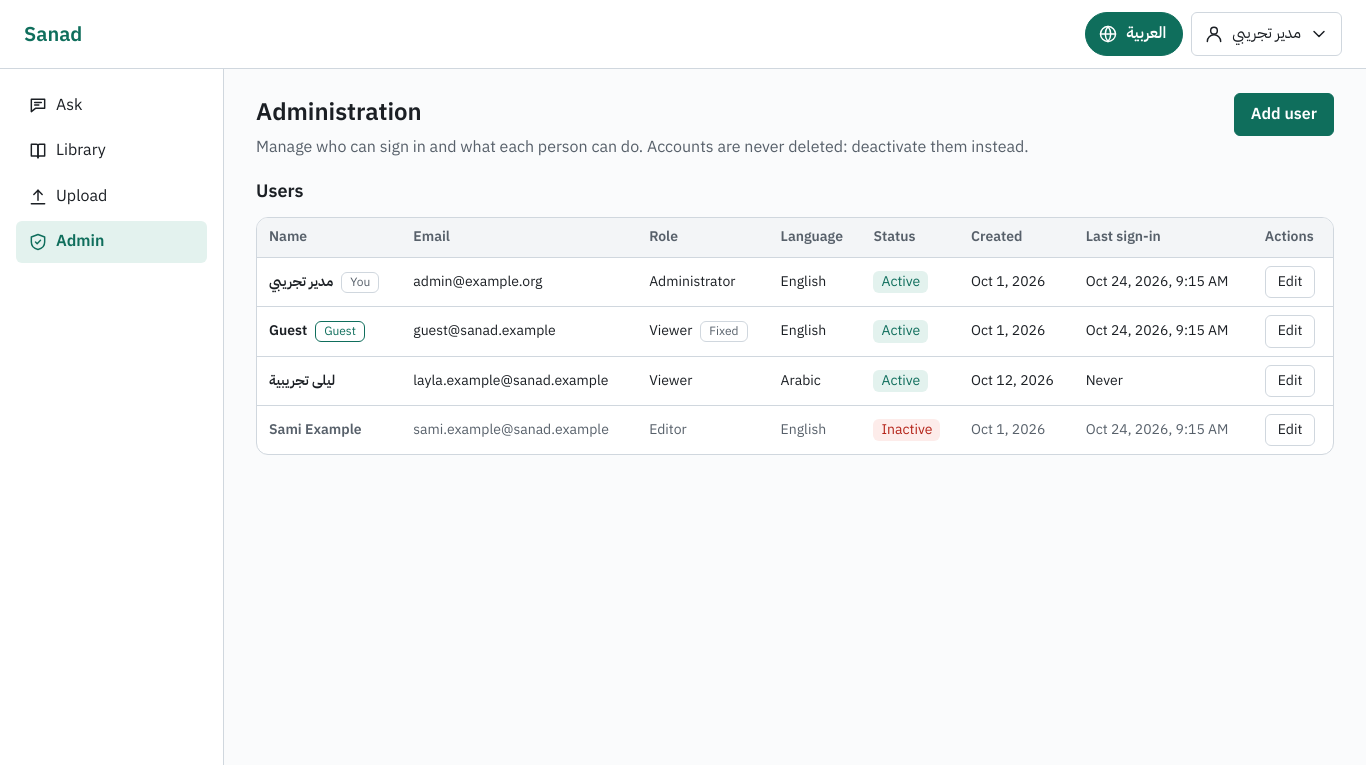
Test: create user › a duplicate email shows the translated error and keeps what was typed
Expected: the table named "Users" is shown, [257, 218, 1333, 454]
Step 1. Click the button "Add user" → x=1284, y=114, box [1234, 93, 1334, 136]
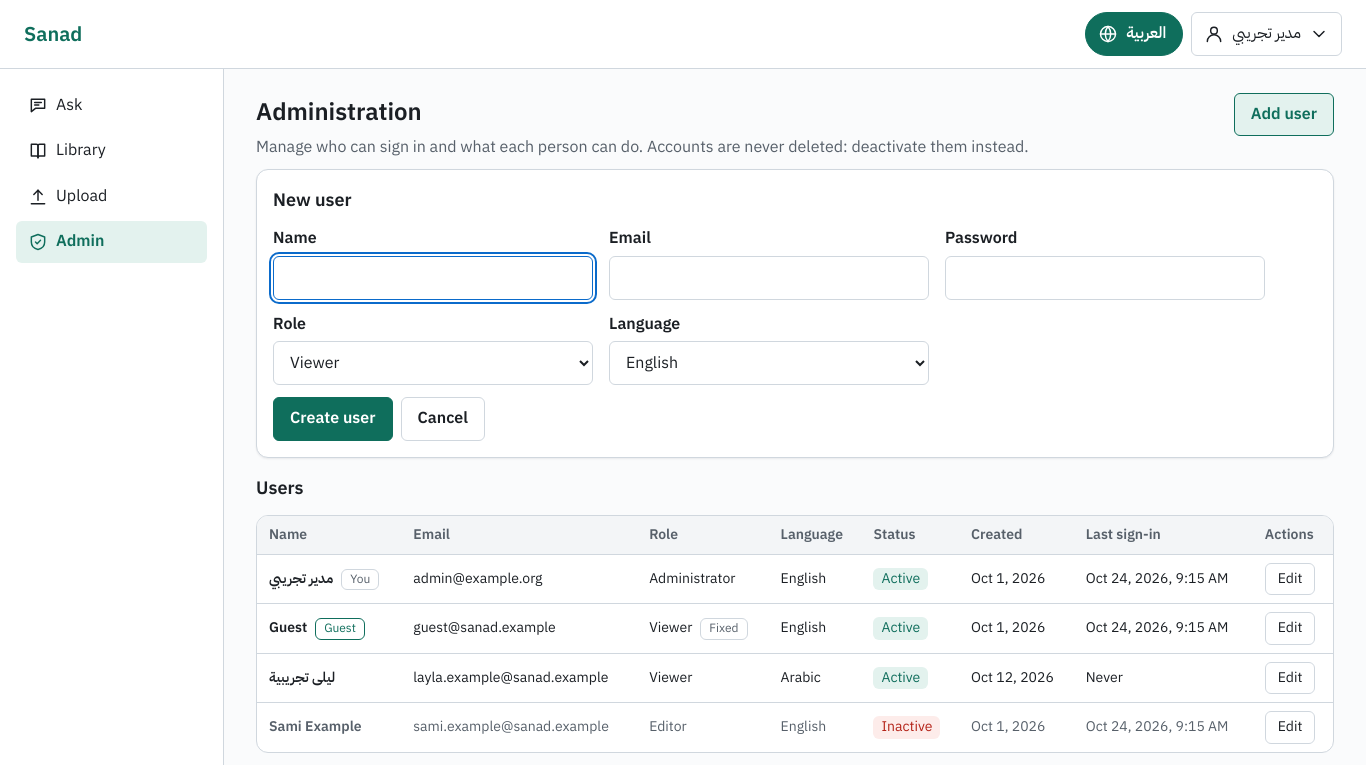
Step 2. Type "Hala Example" into the field labelled "Name" → x=433, y=278, box [273, 256, 593, 300]
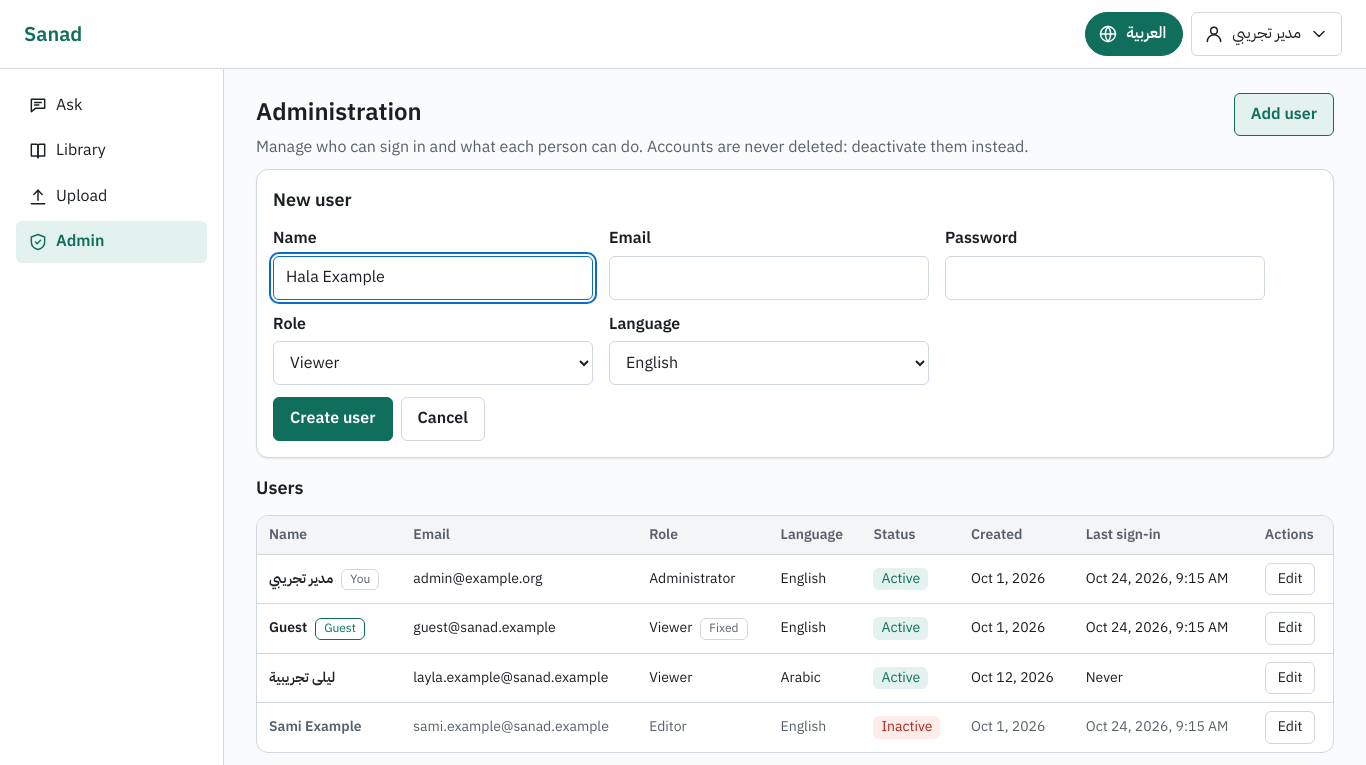
Step 3. Type "layla.example@sanad.example" into the field labelled "Email" → x=769, y=278, box [609, 256, 929, 300]
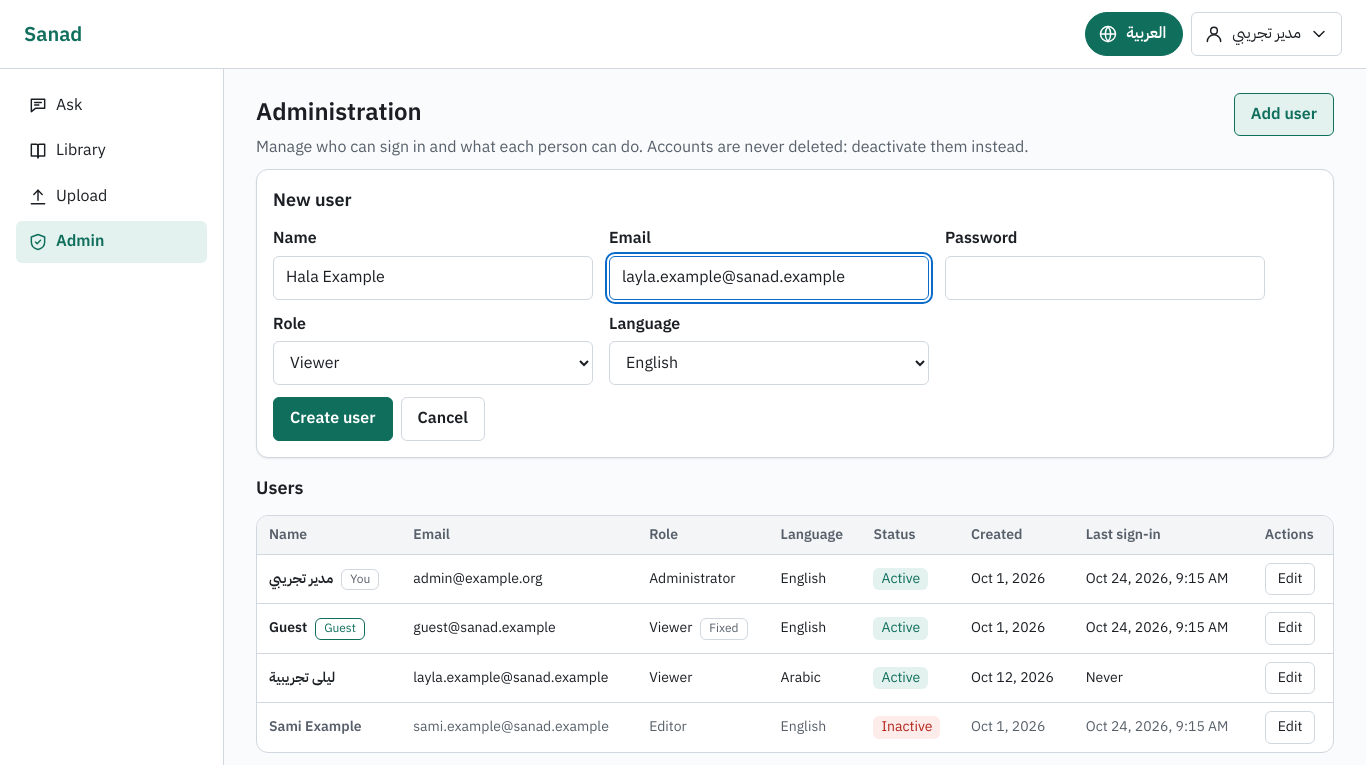
Step 4. Type "correct-horse-battery" into the password field labelled "Password" → x=1105, y=278, box [945, 256, 1265, 300]
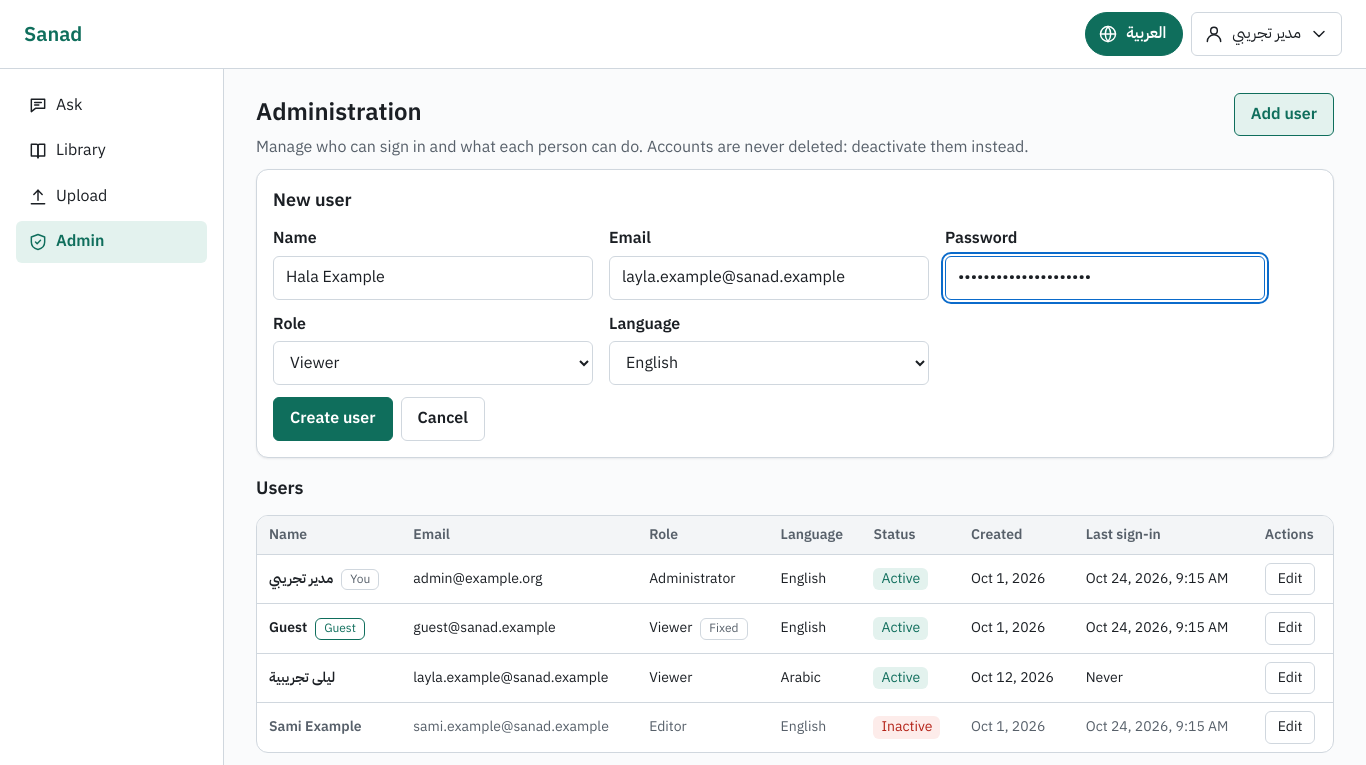
Step 5. Click the button "Create user" → x=333, y=419, box [273, 397, 392, 441]
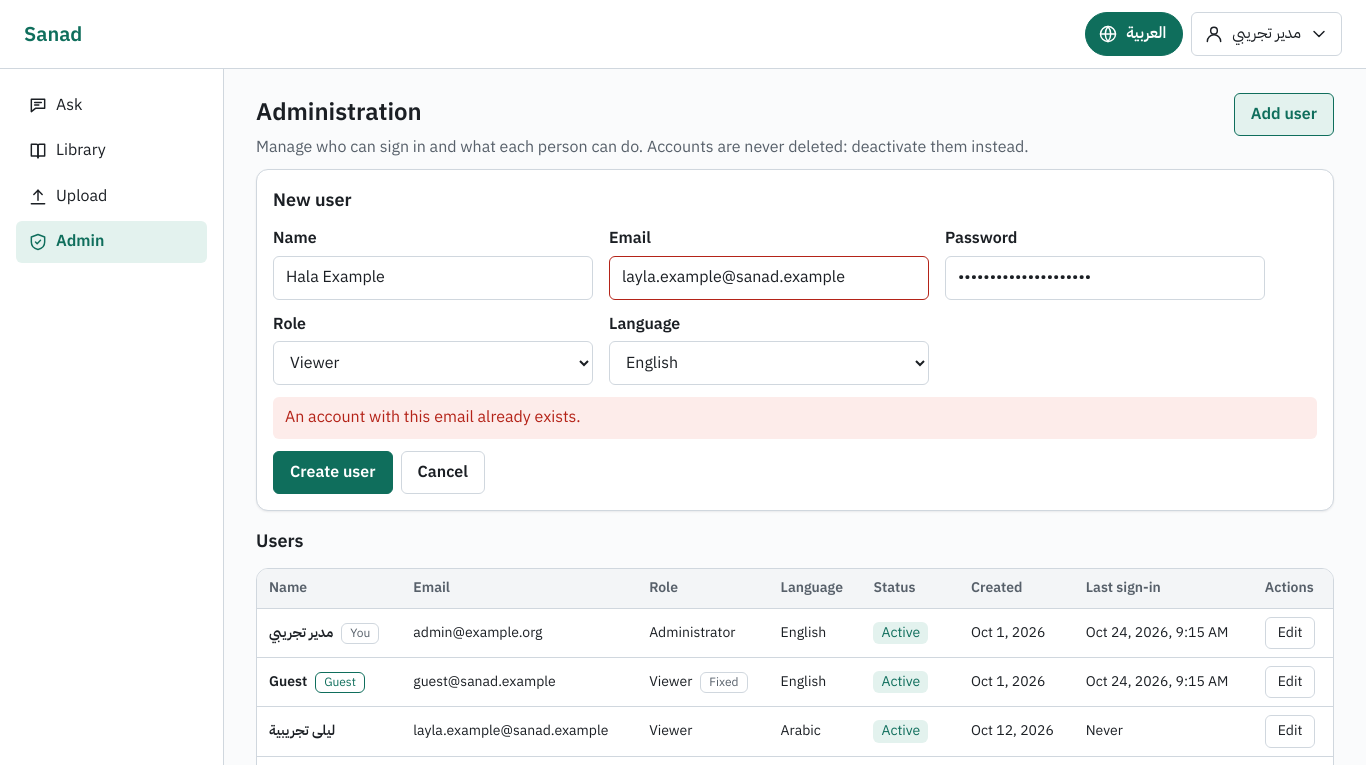
Now the message reads "An account with this email already exists.", box [285, 405, 581, 429]
